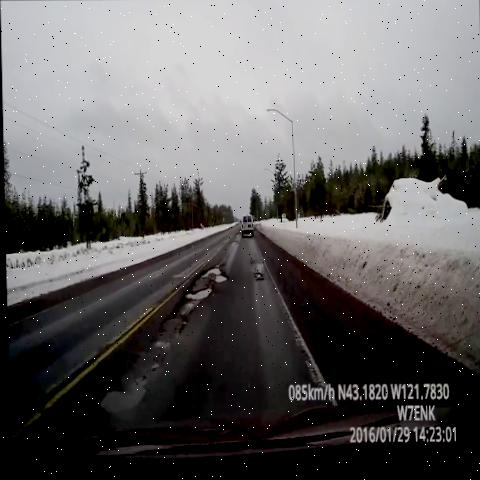pothole: (95, 353, 168, 430), (178, 273, 219, 314), (199, 250, 233, 286), (245, 255, 269, 293), (224, 227, 243, 256)
